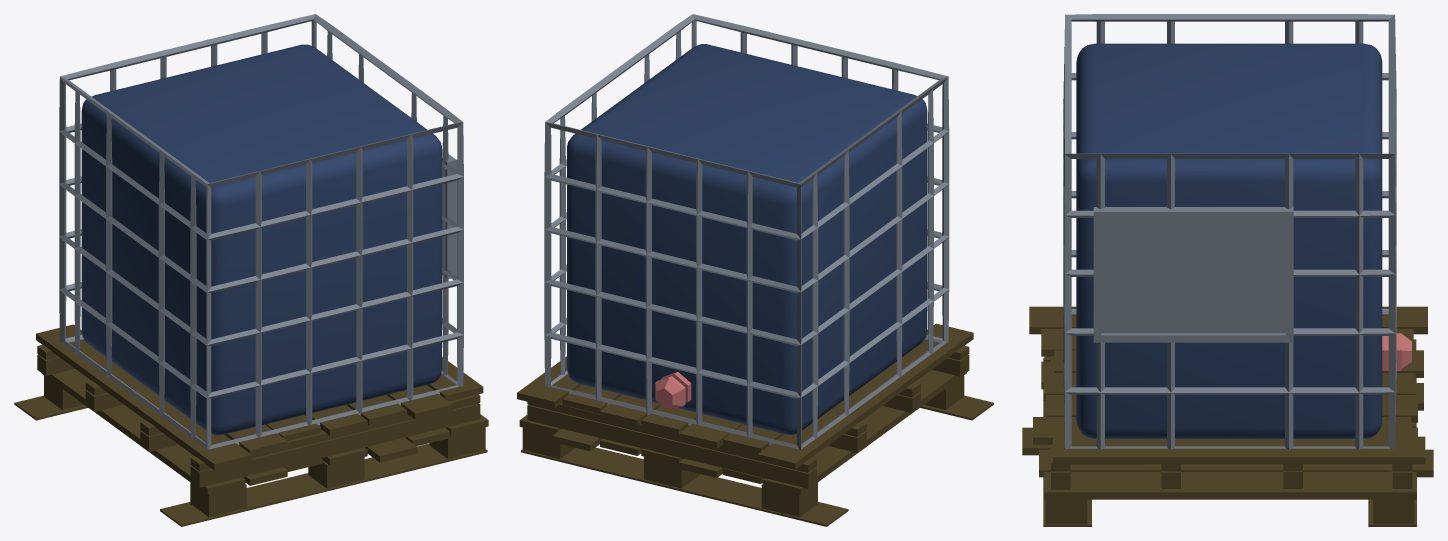
3 renders of one model, left to right at view 1: azimuth 30°, elevation 25°; view 2: azimuth 150°, elevation 25°; view 3: azimuth 270°, elevation 25°, orthographic. The views are drawn at different scales.
Visible parts, largest first — view 1: box.001; view 2: box.001; view 3: box.001.
Boxes of the visible parts, bbox=[...] form: box.001: bbox=[14, 14, 488, 526]; box.001: bbox=[517, 14, 993, 526]; box.001: bbox=[1022, 14, 1433, 526].
Bounding box in the file's own units: 1.87 × 1.9 × 1.94.
